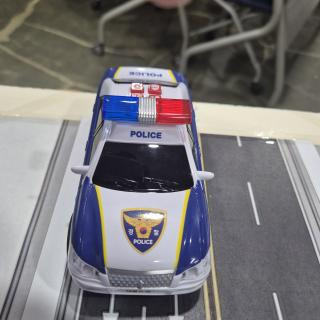Police_car: (68, 67, 214, 295)
